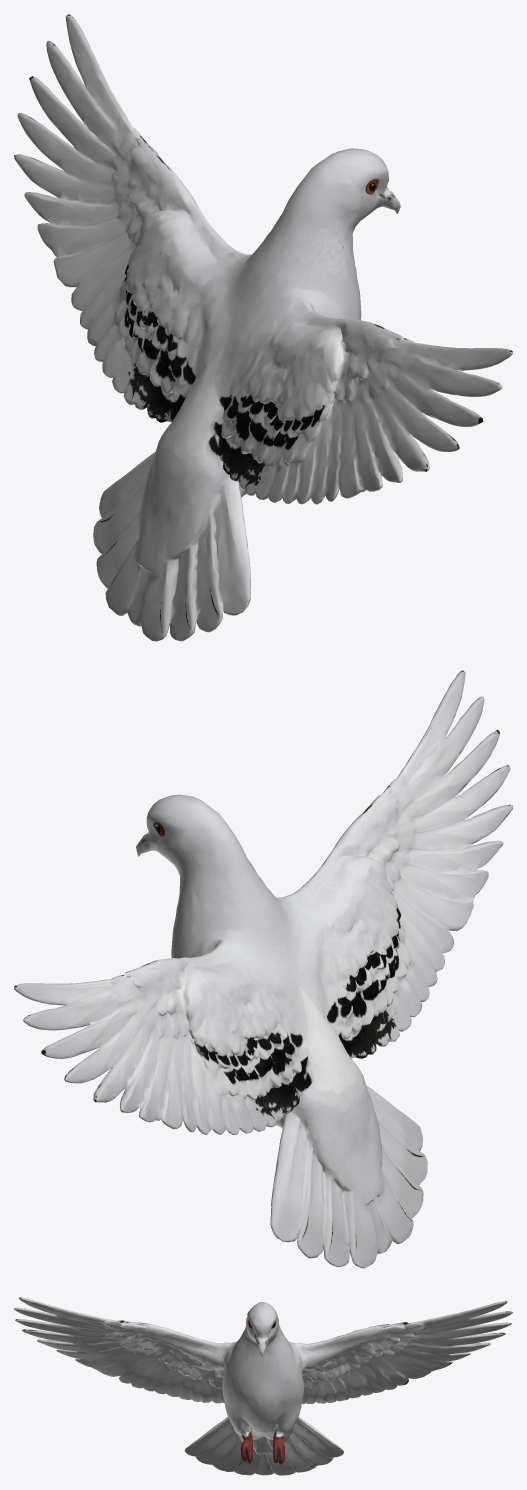
Rendered from white-dove.glb.
The picture shows the model from 3 angles, top to bottom: view 1: azimuth 30°, elevation 25°; view 2: azimuth 150°, elevation 25°; view 3: azimuth 270°, elevation 25°; orthographic projection. The views are drawn at different scales.
Visible parts, largest first — view 1: tripo_node_48a6ad9a-b56d-4287-bbd4-83745e4e6cb4; view 2: tripo_node_48a6ad9a-b56d-4287-bbd4-83745e4e6cb4; view 3: tripo_node_48a6ad9a-b56d-4287-bbd4-83745e4e6cb4.
Part boxes in pixels (bbox=[...]): tripo_node_48a6ad9a-b56d-4287-bbd4-83745e4e6cb4: bbox=[14, 14, 512, 641]; tripo_node_48a6ad9a-b56d-4287-bbd4-83745e4e6cb4: bbox=[14, 670, 512, 1268]; tripo_node_48a6ad9a-b56d-4287-bbd4-83745e4e6cb4: bbox=[14, 1297, 512, 1475].
Bounding box in the file's own units: 0.2644 × 0.4 × 0.8025.
1 material, 1 textured.
